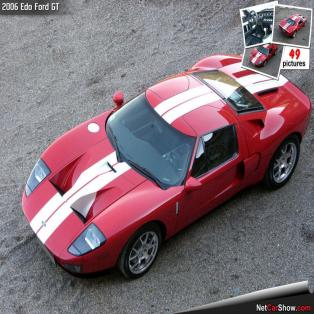Auto: (22, 46, 312, 283)
